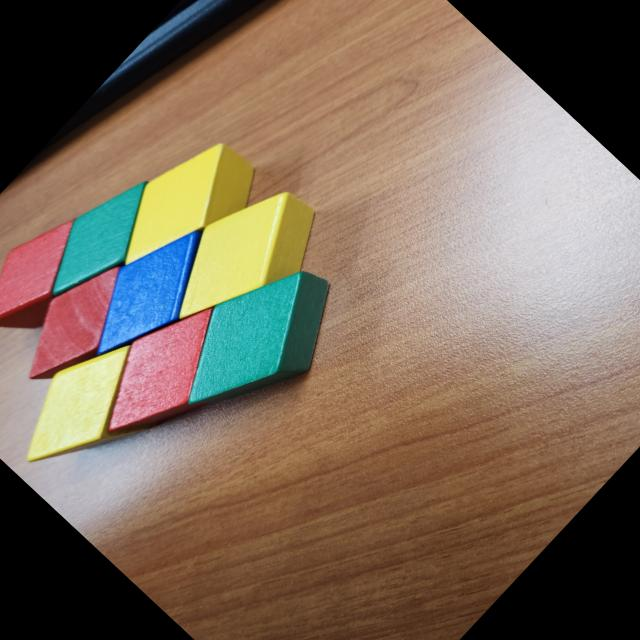blue: (96, 230, 202, 355)
green: (148, 236, 360, 452), (26, 162, 178, 318)
red: (0, 199, 114, 356), (108, 309, 210, 431), (29, 265, 119, 380)
yellow: (178, 194, 315, 319), (123, 143, 254, 267), (25, 347, 131, 463)
